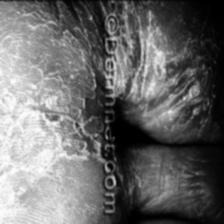Non-Cancerous Skin Condition: (1, 0, 96, 224), (119, 0, 173, 106)
